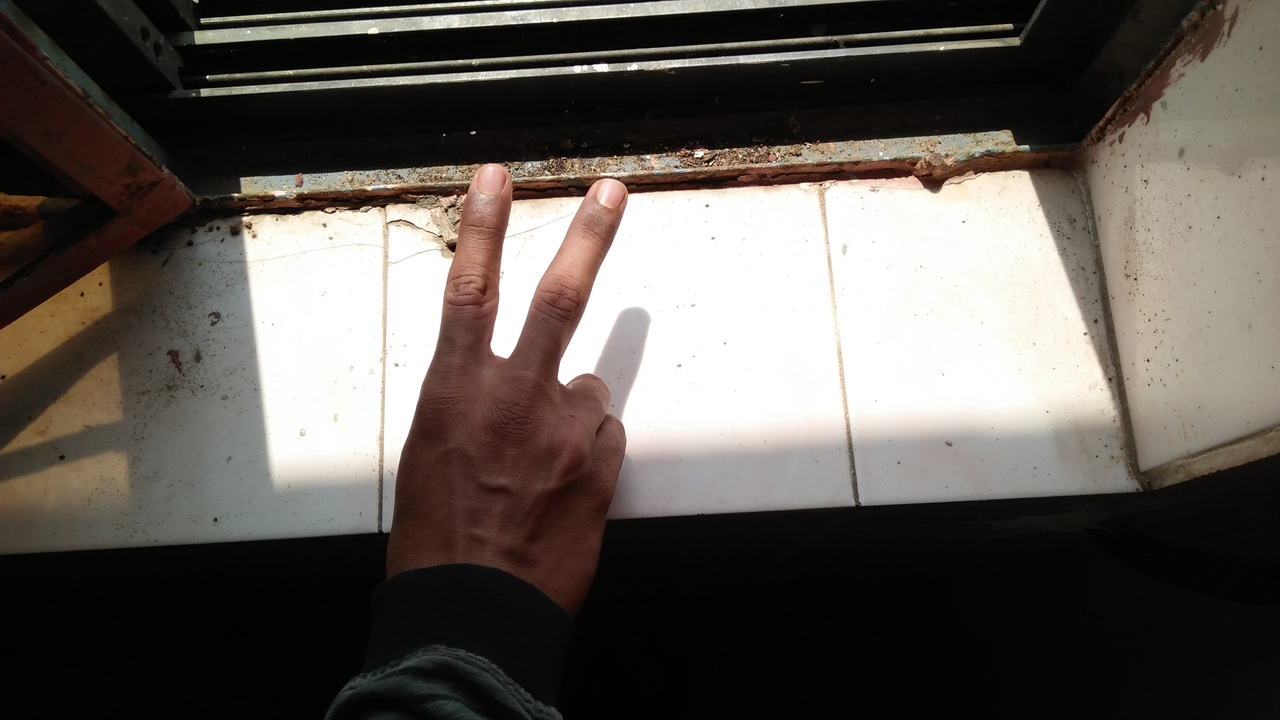fingertip: (456, 154, 518, 206), (576, 166, 634, 220)
